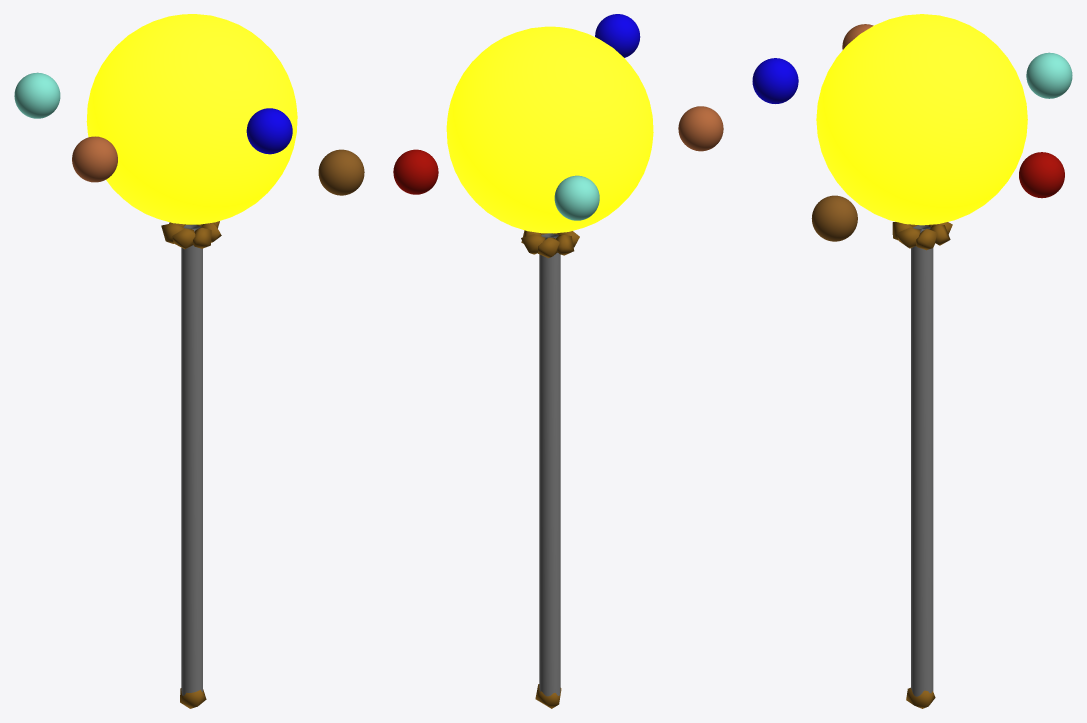
The model's file is MazoDeLuz.fbx.
The picture shows the model from 3 angles, left to right: view 1: azimuth 30°, elevation 25°; view 2: azimuth 150°, elevation 25°; view 3: azimuth 270°, elevation 25°; orthographic projection. The views are drawn at different scales.
Visible parts, largest first — view 1: Icosphere.001, Cylinder, Icosphere.004, Icosphere, Icosphere.002, Icosphere.003, Rocas; view 2: Icosphere.001, Cylinder, Icosphere, Icosphere.004, Icosphere.005, Icosphere.002, Rocas; view 3: Icosphere.001, Cylinder, Icosphere, Icosphere.003, Icosphere.002, Icosphere.005, Rocas.
Part boxes in pixels (x1,y1,x2,y2): Icosphere.001: [86, 14, 297, 224]; Cylinder: [181, 224, 202, 695]; Icosphere.004: [72, 136, 117, 182]; Icosphere: [14, 72, 60, 118]; Icosphere.002: [246, 108, 292, 154]; Icosphere.003: [318, 149, 364, 195]; Rocas: [161, 221, 221, 249]; Icosphere.001: [446, 26, 653, 233]; Cylinder: [539, 233, 560, 696]; Icosphere: [554, 175, 599, 220]; Icosphere.004: [678, 106, 723, 151]; Icosphere.005: [393, 149, 438, 194]; Icosphere.002: [595, 14, 640, 57]; Rocas: [521, 230, 579, 258]; Icosphere.001: [816, 14, 1027, 225]; Cylinder: [911, 225, 933, 696]; Icosphere: [1026, 52, 1072, 98]; Icosphere.003: [811, 195, 857, 241]; Icosphere.002: [752, 58, 798, 103]; Icosphere.005: [1019, 152, 1064, 198]; Rocas: [892, 222, 952, 250].
Bounding box in the file's own units: 4157 × 10035 × 4243.
